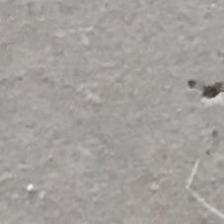Non_Crack: (57, 104, 224, 206)
